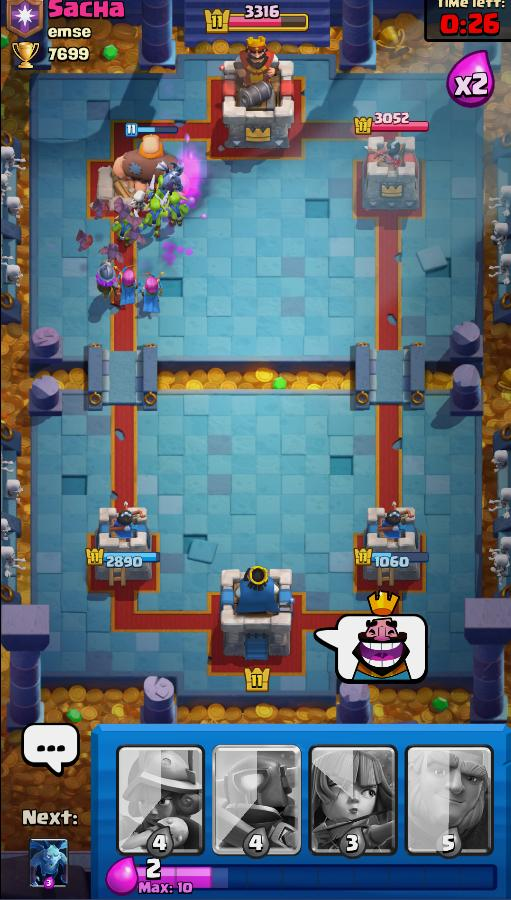archere: (137, 271, 170, 321), (114, 261, 140, 308)
bat: (109, 198, 146, 225), (71, 228, 101, 256), (82, 197, 109, 222), (94, 241, 126, 262), (124, 223, 147, 246)
gargouille: (154, 163, 192, 195)
geant: (105, 134, 185, 195)
gobelin: (163, 192, 197, 229), (140, 197, 171, 235), (110, 212, 142, 245)
mousquetaire: (87, 257, 123, 304)
squelette: (127, 189, 150, 214)
